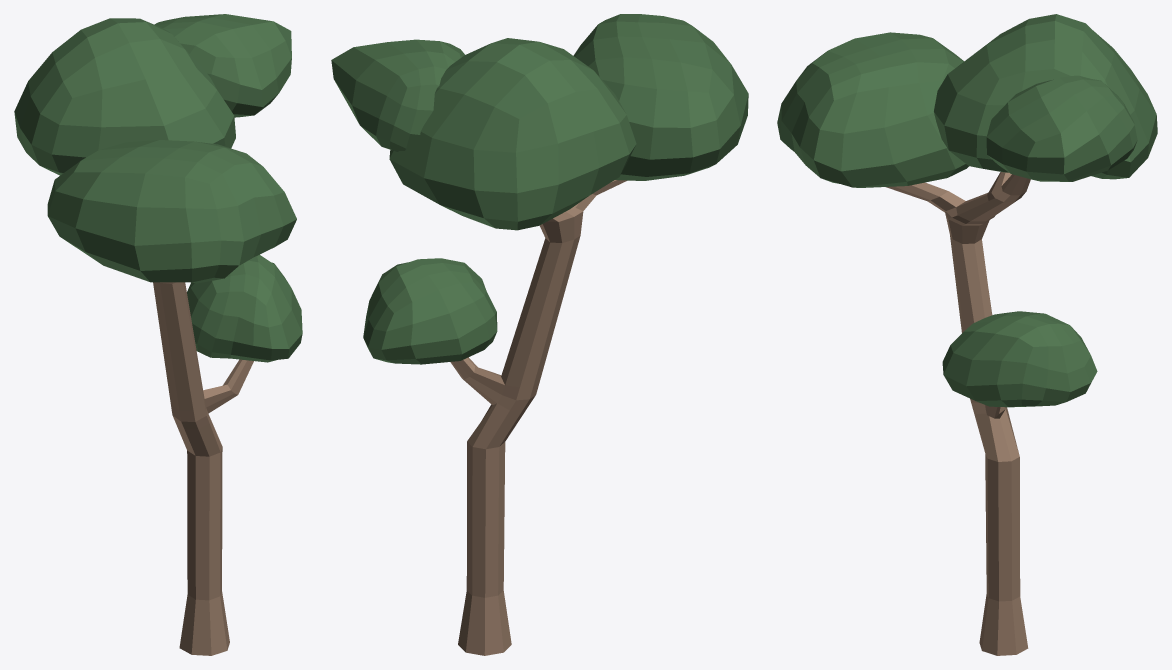
File: tree.fbx
3 views of the same model, side by side, from view 1: azimuth 30°, elevation 25°; view 2: azimuth 150°, elevation 25°; view 3: azimuth 270°, elevation 25° (orthographic). The views are drawn at different scales.
Visible parts, largest first — view 1: Cube.026, Cube.025, tree.002, Cube.027, Cube.028; view 2: Cube.025, Cube.026, tree.002, Cube.027, Cube.028; view 3: Cube.026, Cube.025, tree.002, Cube.028, Cube.027.
Part boxes in pixels (x1=…): Cube.026: x1=47, y1=140, x2=296, y2=283; Cube.025: x1=14, y1=18, x2=235, y2=175; tree.002: x1=153, y1=282, x2=253, y2=655; Cube.027: x1=187, y1=254, x2=302, y2=362; Cube.028: x1=154, y1=14, x2=291, y2=117; Cube.025: x1=389, y1=38, x2=636, y2=230; Cube.026: x1=573, y1=14, x2=748, y2=180; tree.002: x1=450, y1=180, x2=626, y2=655; Cube.027: x1=363, y1=258, x2=497, y2=364; Cube.028: x1=331, y1=39, x2=464, y2=151; Cube.026: x1=777, y1=32, x2=968, y2=187; Cube.025: x1=934, y1=14, x2=1157, y2=179; tree.002: x1=886, y1=172, x2=1030, y2=655; Cube.028: x1=986, y1=75, x2=1137, y2=181; Cube.027: x1=942, y1=311, x2=1097, y2=407.
Size of the model in its own units: 664 by 1260 by 729.
